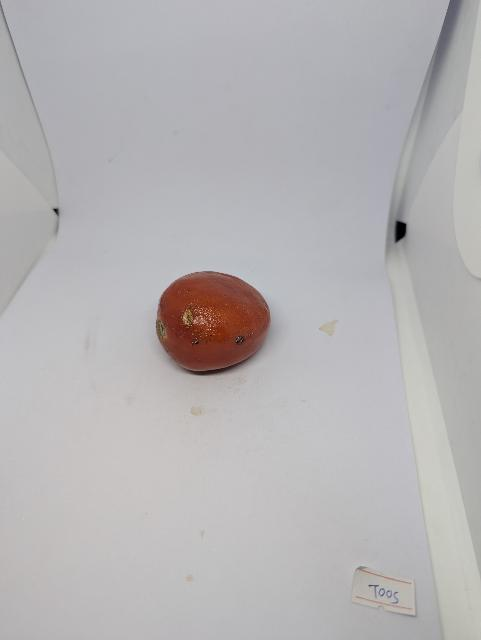defect: (151, 268, 273, 376)
